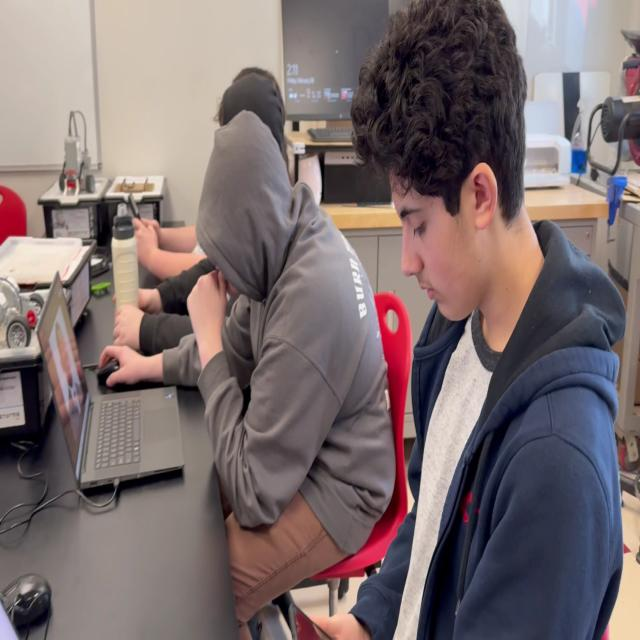pen: (287, 601, 346, 640), (128, 192, 145, 237)
